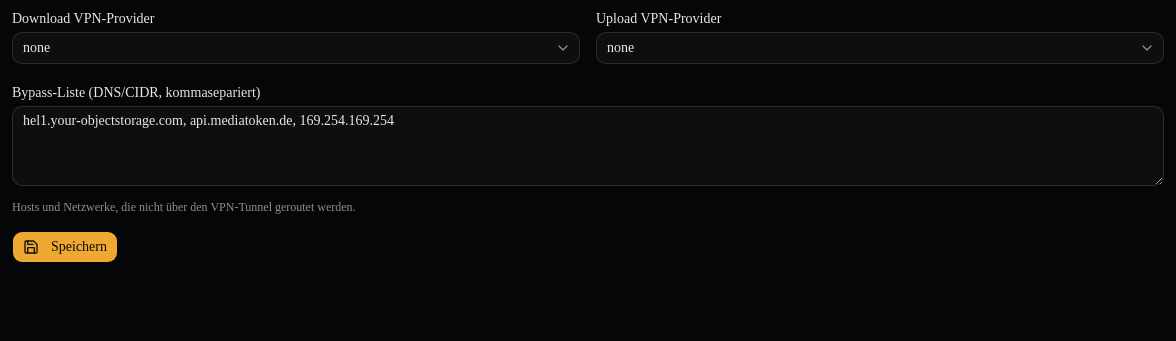
VpnJobConfig › zeigt Fehlermeldung wenn Speichern fehlschlägt
This screenshot has width=1176, height=341.
Click the button "Speichern": [65, 247] box [12, 231, 118, 263]
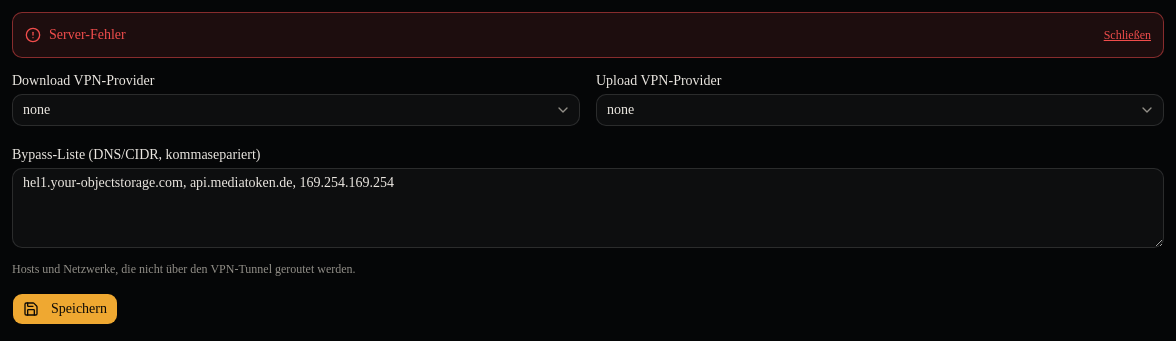
Now the text "Server-Fehler" is shown, box [49, 27, 126, 42]
